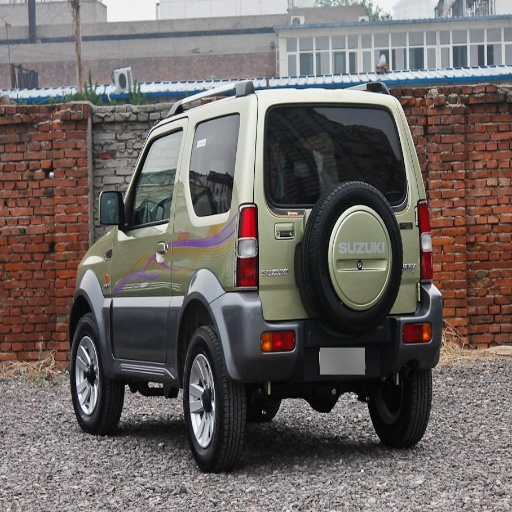back_bumper: (215, 284, 435, 383)
back_glass: (321, 105, 398, 152)
back_left_light: (237, 213, 258, 288)
tailgate: (297, 226, 392, 306)
trunk: (261, 172, 328, 293), (177, 242, 217, 312)
